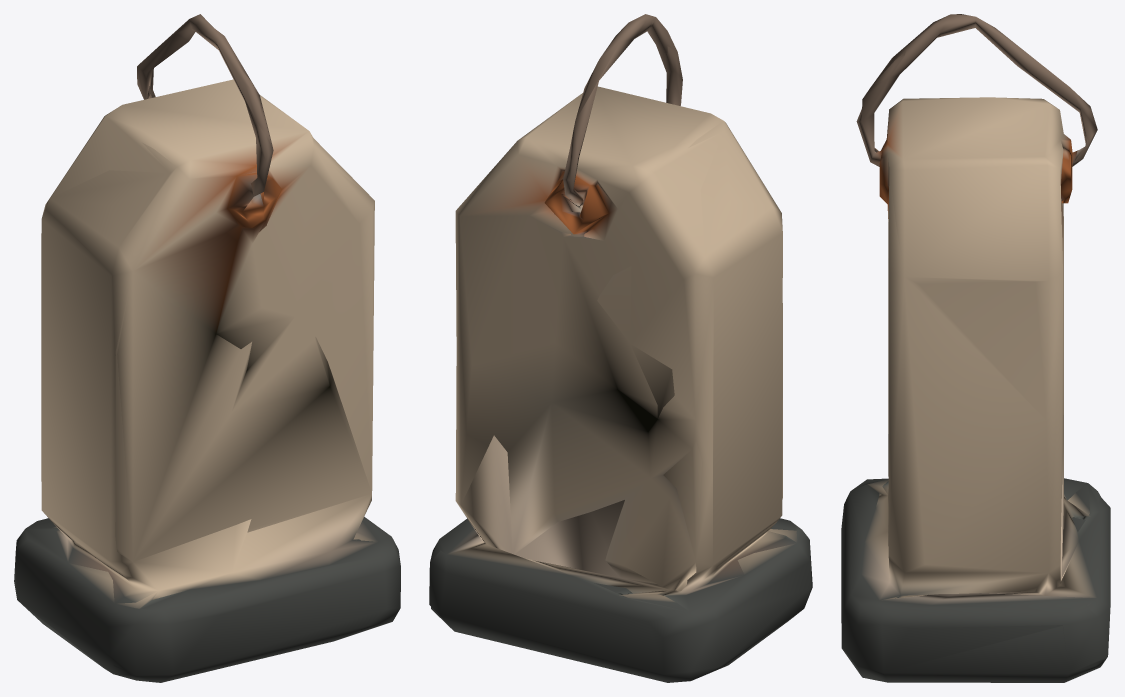
File: gen3d-price-tag-lod1.glb
3 renders of one model, left to right at view 1: azimuth 30°, elevation 25°; view 2: azimuth 150°, elevation 25°; view 3: azimuth 270°, elevation 25°, orthographic.
Parts seen in each view (by area): view 1: part_0; view 2: part_0; view 3: part_0.
Boxes of the visible parts, x1=… form: part_0: x1=14, y1=14, x2=400, y2=682; part_0: x1=429, y1=14, x2=812, y2=682; part_0: x1=841, y1=14, x2=1110, y2=682.
Bounding box in the file's own units: 0.5075 × 0.9968 × 0.4086.
